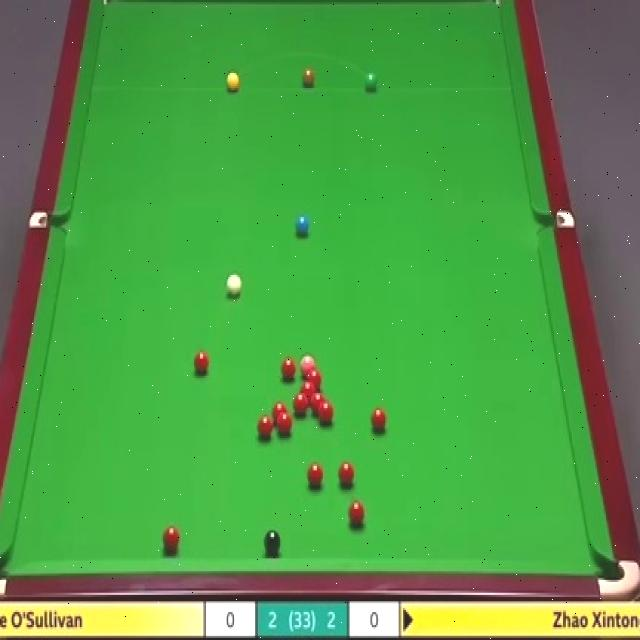black-ball: (264, 526, 281, 556)
blue-ball: (294, 213, 310, 239)
brown-ball: (301, 69, 314, 88)
green-ball: (365, 72, 377, 92)
pink-ball: (300, 354, 316, 370)
red-ball: (348, 500, 366, 529), (161, 526, 180, 552), (280, 356, 298, 383), (277, 411, 294, 435), (371, 408, 388, 432), (318, 400, 334, 424), (338, 462, 354, 486), (308, 463, 324, 487), (194, 349, 208, 374), (258, 415, 273, 438), (292, 393, 309, 412), (271, 399, 287, 418), (310, 393, 326, 412), (298, 381, 318, 395), (306, 370, 324, 382)
white-ball: (225, 272, 242, 300)
yellow-ball: (225, 70, 241, 92)
